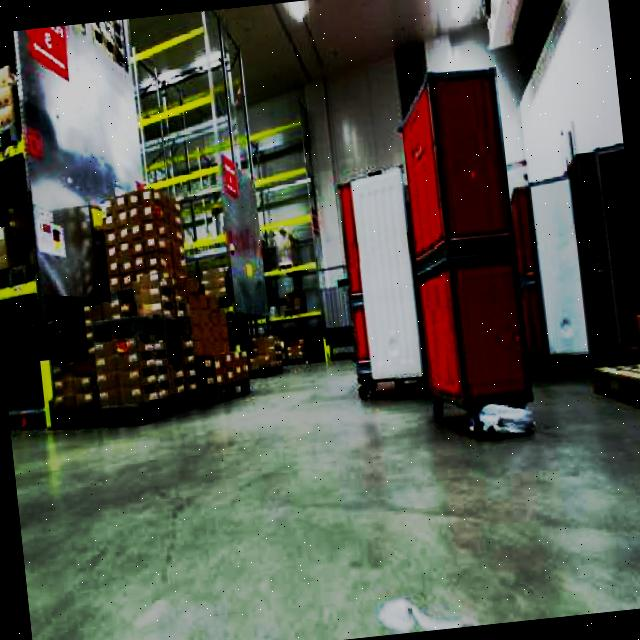ground: (5, 322, 640, 640)
pallet: (323, 50, 640, 524), (30, 176, 254, 433), (390, 62, 536, 440), (564, 137, 640, 455), (332, 163, 427, 401), (508, 173, 593, 375), (584, 307, 640, 580), (582, 308, 640, 435)
